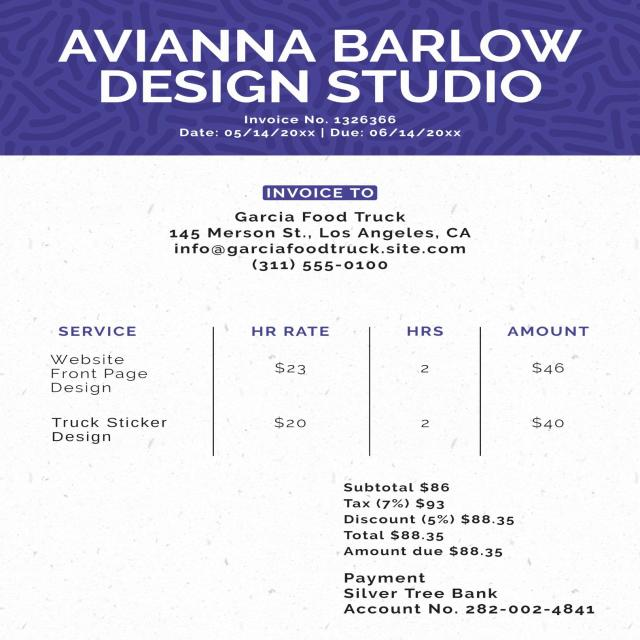paragraph: (45, 15, 591, 144), (334, 475, 603, 623), (154, 178, 488, 286)
table: (30, 318, 605, 454)
